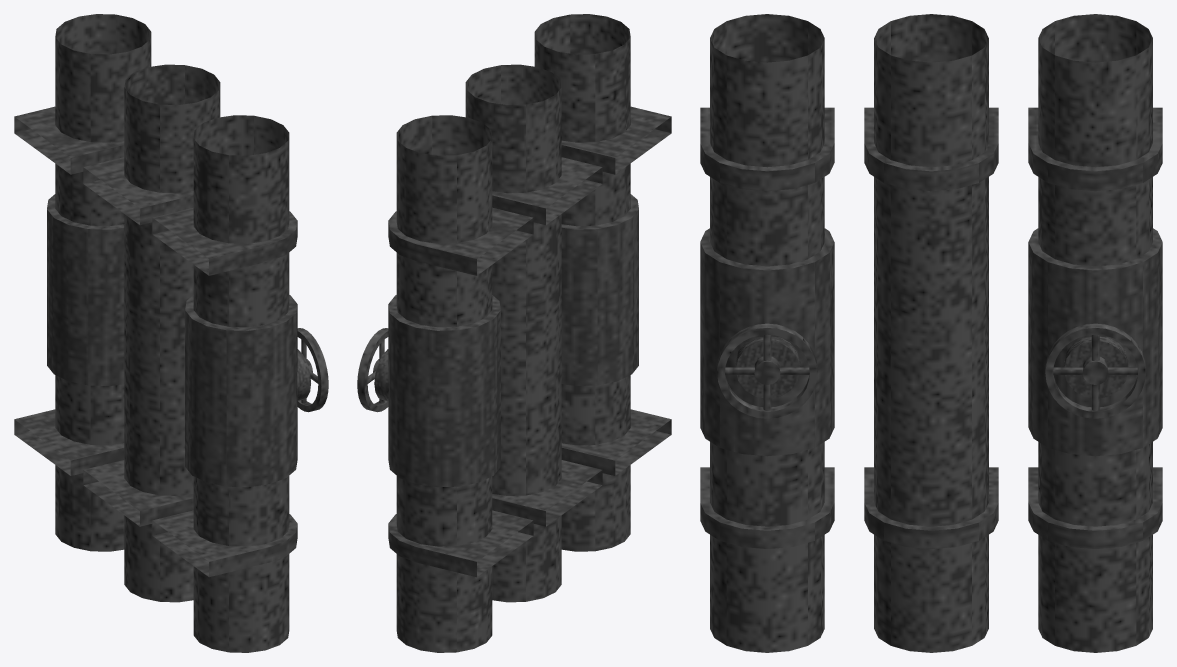
The model's file is MetalPipes2.fbx.
The picture shows the model from 3 angles, left to right: view 1: azimuth 30°, elevation 25°; view 2: azimuth 150°, elevation 25°; view 3: azimuth 270°, elevation 25°; orthographic projection. The views are drawn at different scales.
Visible parts, largest first — view 1: Cylinder.003; view 2: Cylinder.003; view 3: Cylinder.003.
Boxes of the visible parts, x1=… form: Cylinder.003: x1=14, y1=14, x2=328, y2=652; Cylinder.003: x1=357, y1=14, x2=671, y2=652; Cylinder.003: x1=700, y1=14, x2=1162, y2=652.
Size of the model in its own units: 106 by 397 by 282.
